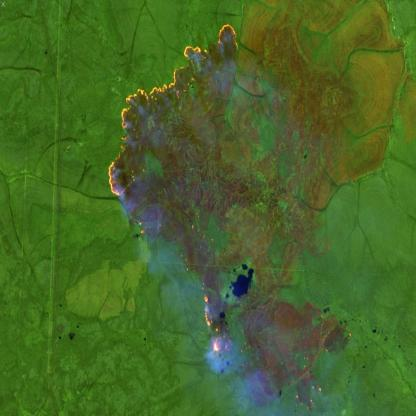fire: (107, 17, 241, 204), (194, 292, 232, 359)
